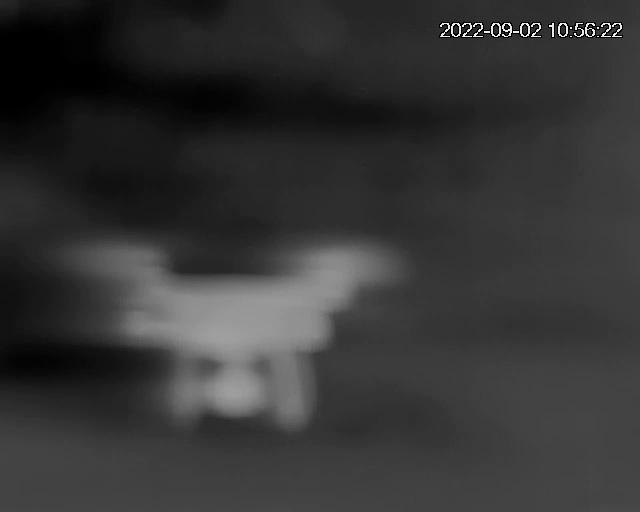DJI-Phantom: (77, 242, 406, 431)
